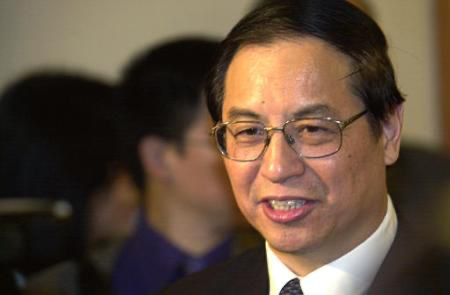Face: (225, 75, 364, 255)
